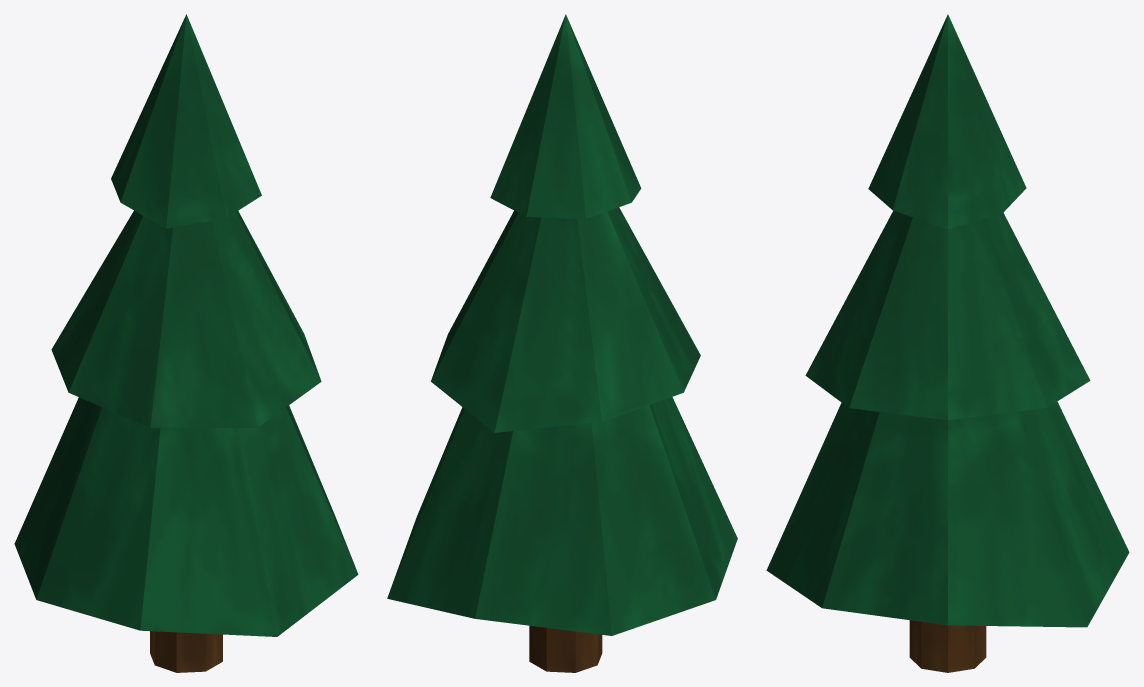
File: Forest Tree.fbx
3 renders of one model, left to right at view 1: azimuth 30°, elevation 25°; view 2: azimuth 150°, elevation 25°; view 3: azimuth 270°, elevation 25°, orthographic.
Parts seen in each view (by area): view 1: Forest Tree; view 2: Forest Tree; view 3: Forest Tree.
Part boxes in pixels (x1,y1,x2,y2): Forest Tree: (14, 14, 358, 672); Forest Tree: (387, 14, 737, 672); Forest Tree: (766, 14, 1129, 672).
Size of the model in its own units: 385 by 791 by 405.
1 material, 1 textured.
